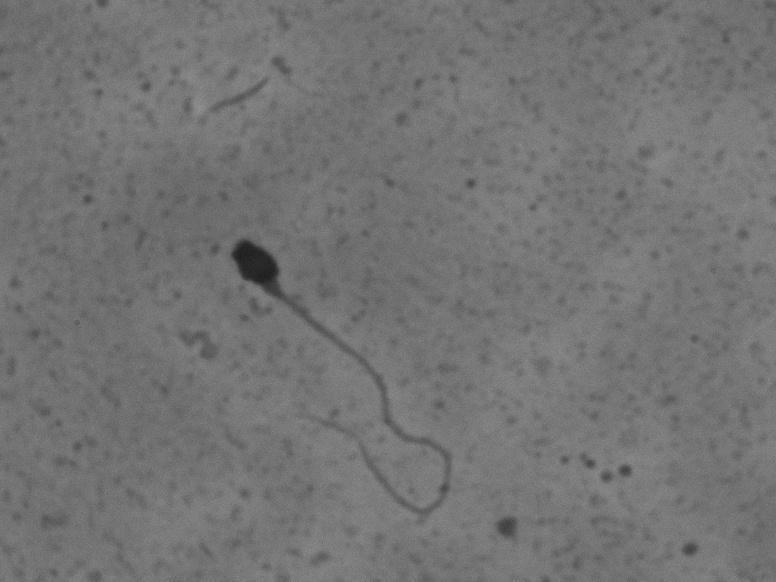Abnormal: (196, 195, 512, 524)
